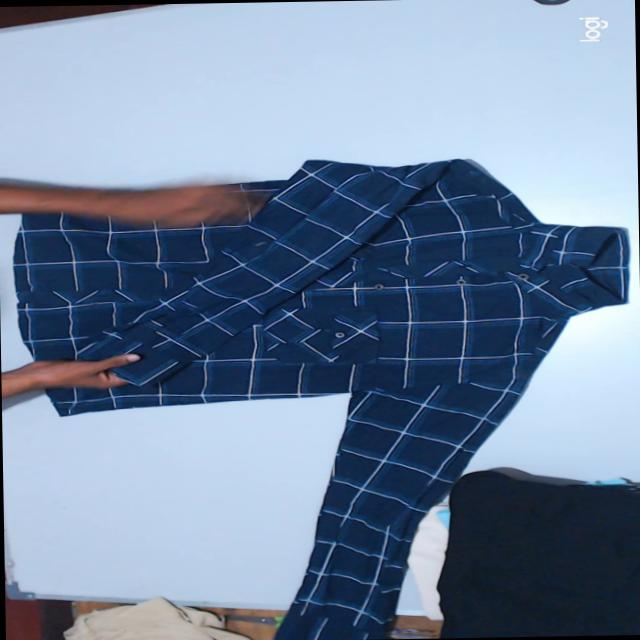new-garment: (10, 159, 628, 640)
